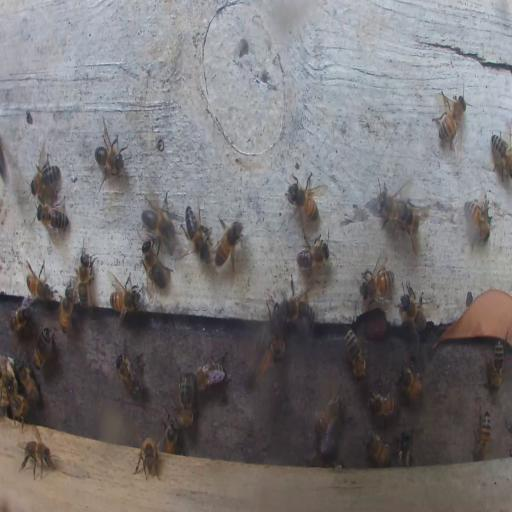nonpollenbee: (93, 126, 129, 187), (434, 90, 468, 150), (377, 188, 416, 238), (398, 282, 431, 338), (388, 197, 422, 251), (140, 239, 172, 293), (215, 217, 245, 272), (19, 436, 54, 480), (29, 147, 60, 196), (313, 394, 342, 445), (184, 204, 210, 259), (114, 350, 144, 397), (141, 197, 173, 238), (286, 177, 320, 214), (465, 196, 492, 242), (132, 437, 160, 481), (110, 276, 140, 317), (78, 240, 96, 308), (194, 354, 227, 390), (36, 198, 68, 235), (266, 299, 286, 358), (396, 362, 424, 404), (283, 289, 313, 328), (345, 328, 367, 381), (296, 237, 330, 270), (472, 404, 492, 460), (25, 264, 54, 302), (360, 265, 392, 299), (16, 361, 41, 404), (490, 132, 512, 180), (178, 369, 195, 430), (367, 387, 399, 419), (365, 429, 390, 466), (9, 297, 33, 333), (33, 326, 53, 369), (59, 284, 74, 336), (160, 417, 179, 455), (395, 428, 413, 468), (490, 338, 504, 389), (1, 359, 15, 400), (10, 395, 30, 423)
pollenbee: (247, 330, 272, 392)
